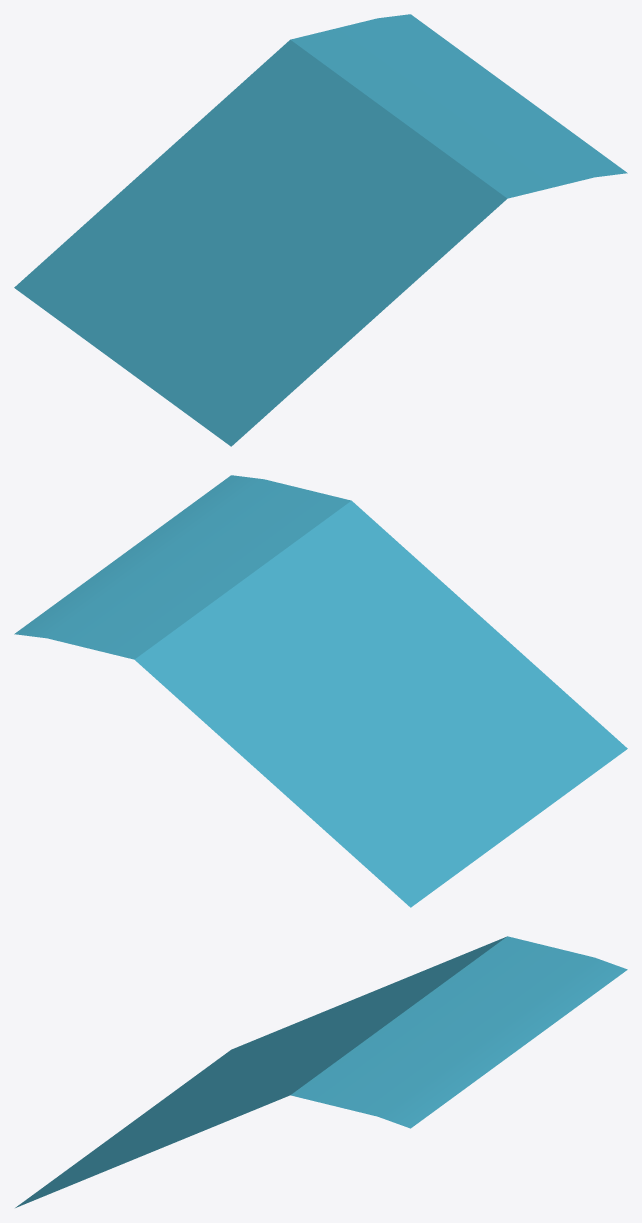
Rendered from HT_Stairs_01_Collider.fbx.
3 renders of one model, top to bottom at view 1: azimuth 30°, elevation 25°; view 2: azimuth 150°, elevation 25°; view 3: azimuth 330°, elevation 25°, orthographic.
Visible parts, largest first — view 1: HT_Stairs_01_Collider; view 2: HT_Stairs_01_Collider; view 3: HT_Stairs_01_Collider.
Boxes of the visible parts, box(x1,y1,x2,y2) form: HT_Stairs_01_Collider: box(14, 14, 627, 446); HT_Stairs_01_Collider: box(14, 475, 627, 907); HT_Stairs_01_Collider: box(15, 936, 627, 1207).
Bounding box in the file's own units: 157 × 68.54 × 149.
